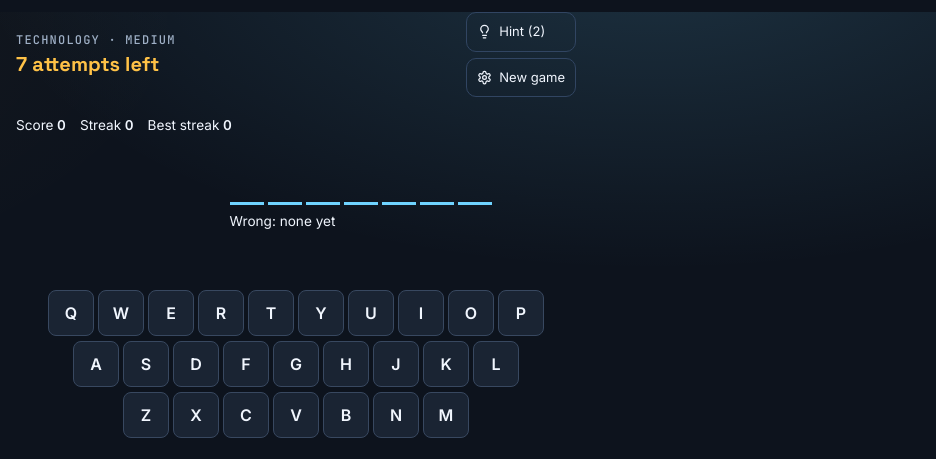
Test case: Hangman component › hints: the first shows the clue, the second reveals a letter, and they run out
The width and height of the screenshot is (936, 459).
Click the button with aria-label "Hint," at (521, 32), box x1=466 y1=12 x2=576 y2=52
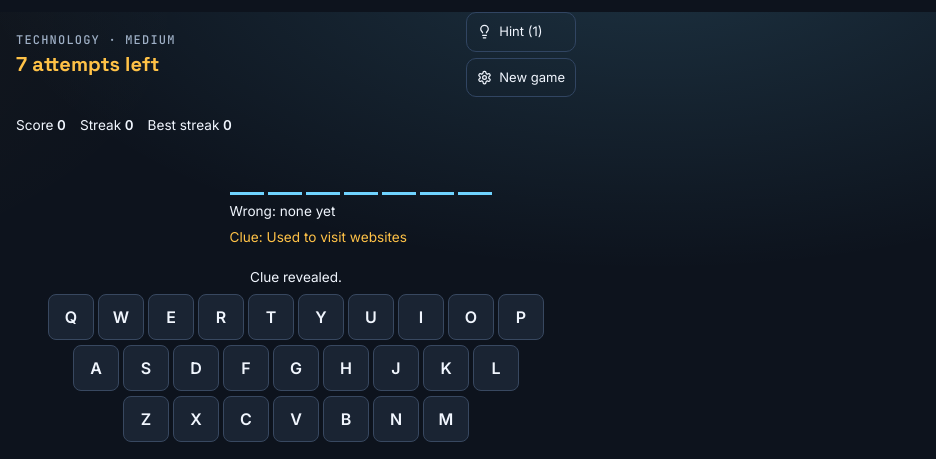
Result: the text "Clue: Used to visit websites" is shown at x1=230 y1=229 x2=407 y2=245
Click the button with aria-label "Hint," at (521, 32), box x1=466 y1=12 x2=576 y2=52
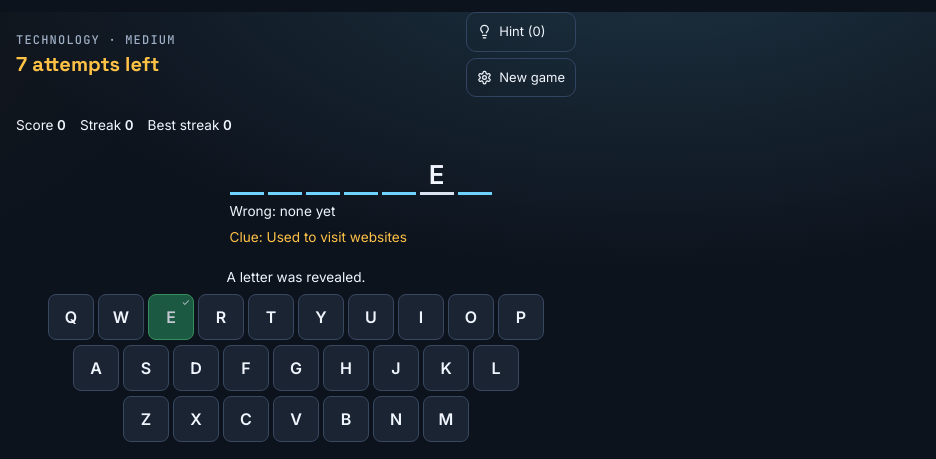
Result: the button with aria-label "Hint," is disabled at x1=466 y1=12 x2=576 y2=52
